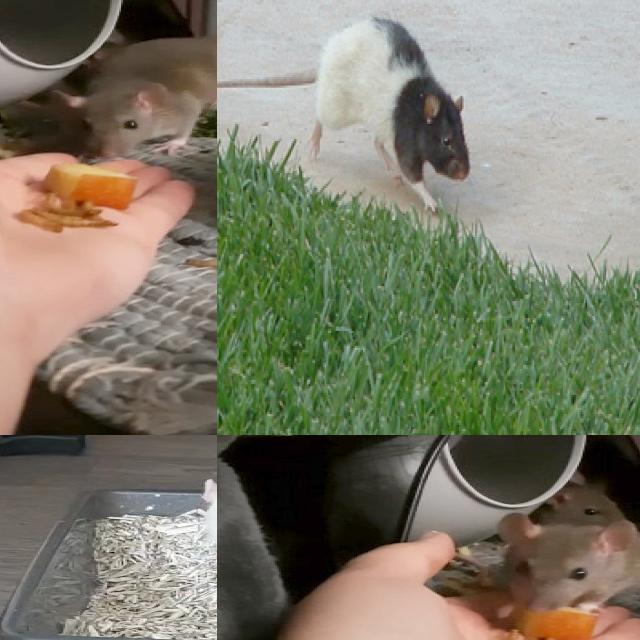rat: (308, 13, 472, 214), (46, 34, 217, 164), (487, 509, 640, 620)
